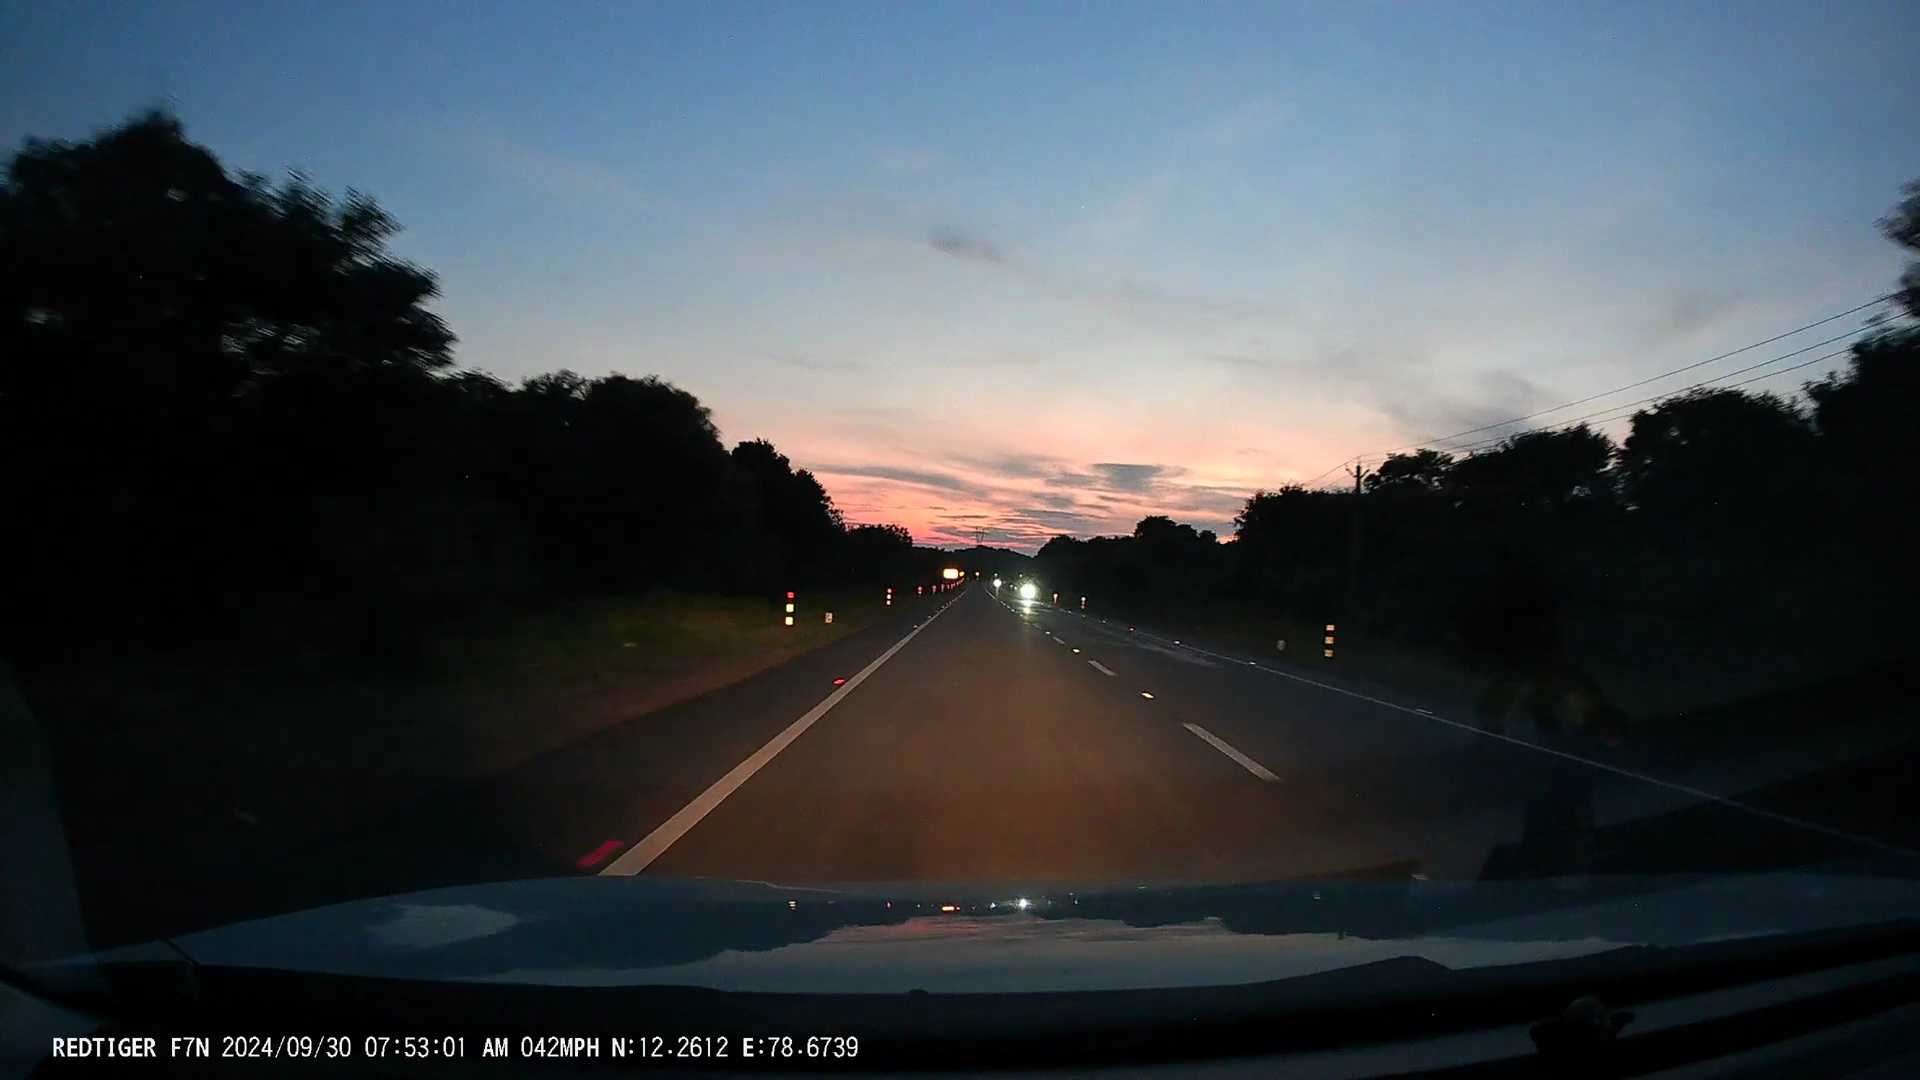headlight: (1021, 582, 1036, 599), (993, 579, 1004, 588)
two wheeler: (1018, 568, 1038, 613), (993, 568, 1004, 600)
